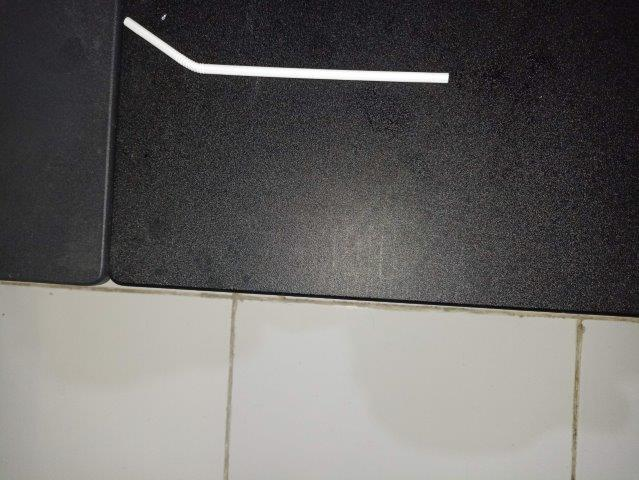sedotan: (123, 17, 449, 84)
